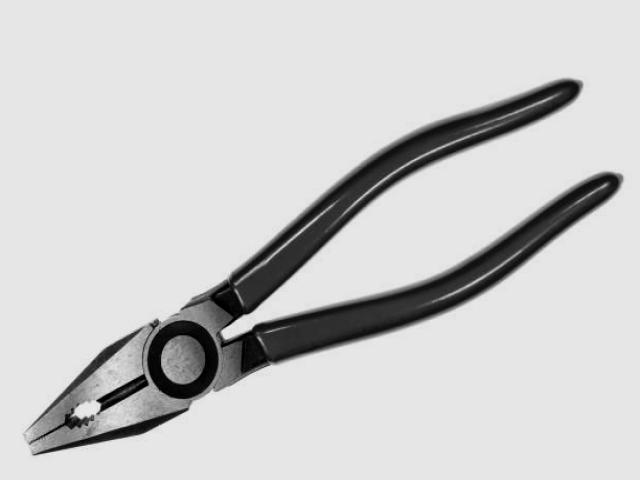Pliers: (25, 81, 622, 455)
